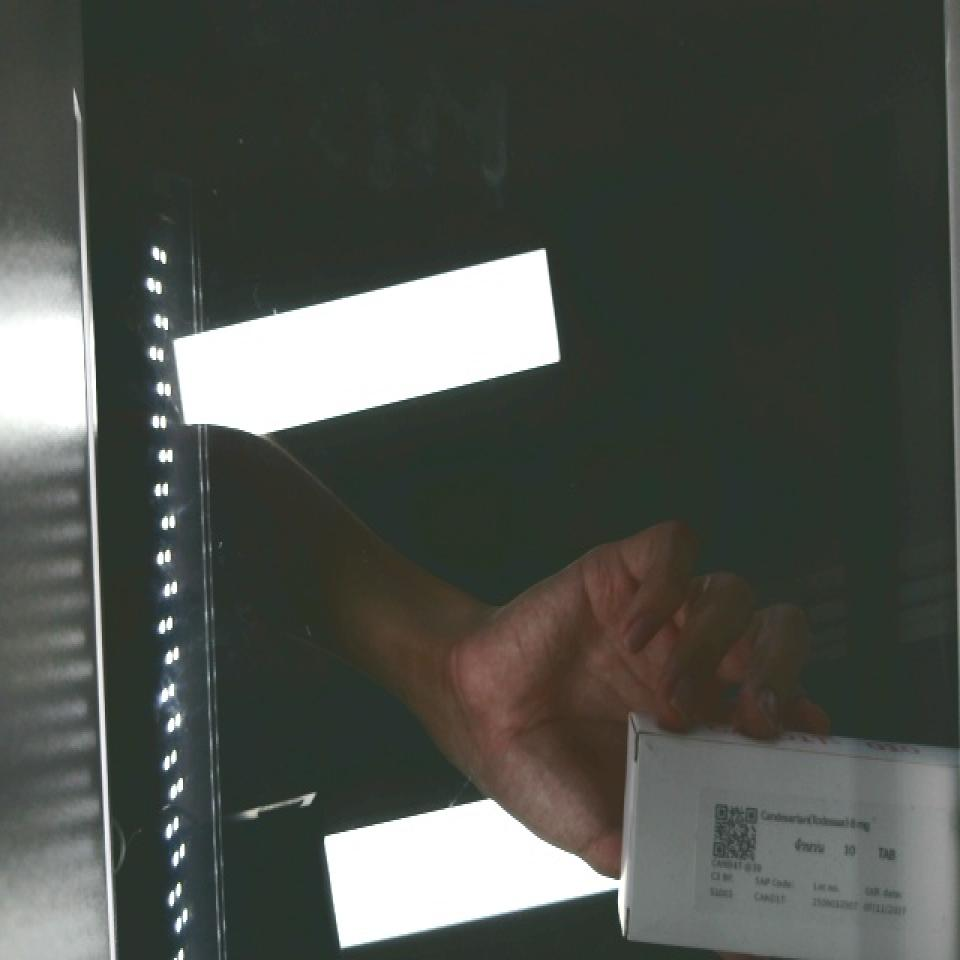medicine_box: (620, 726, 960, 960)
qr_code: (698, 780, 779, 882)
